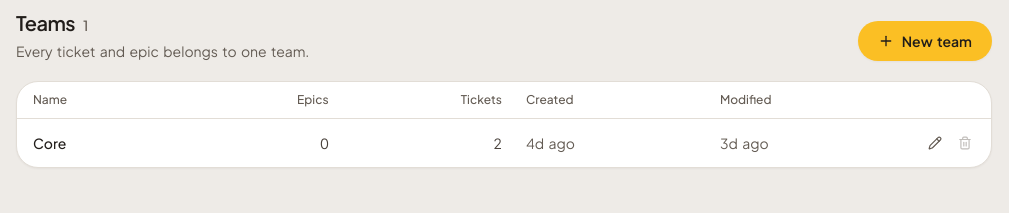
it: TeamsPage › shows the server message when a rename conflicts
The width and height of the screenshot is (1009, 213).
Click the button named "Rename team Core": (935, 143) top-left (921, 129), bottom-right (949, 157)
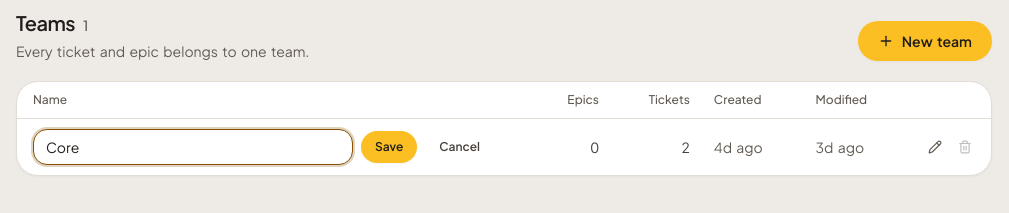
Replace the text in the field named "Team name" with "Platform": (193, 147) top-left (33, 129), bottom-right (353, 165)
Then press Enter
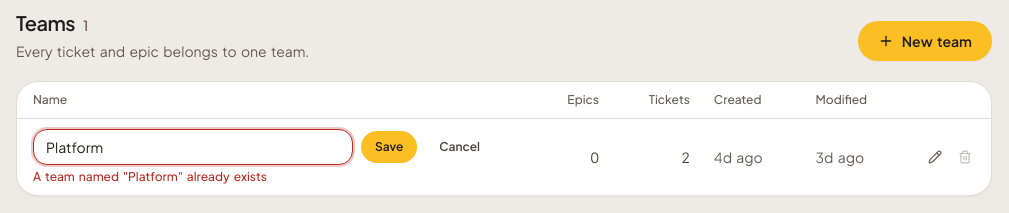
Expected: the text "A team named \"Platform\" already exists" is shown, top-left (33, 169), bottom-right (267, 184)
